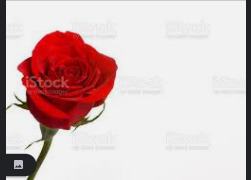RedRose: (13, 26, 122, 126)
